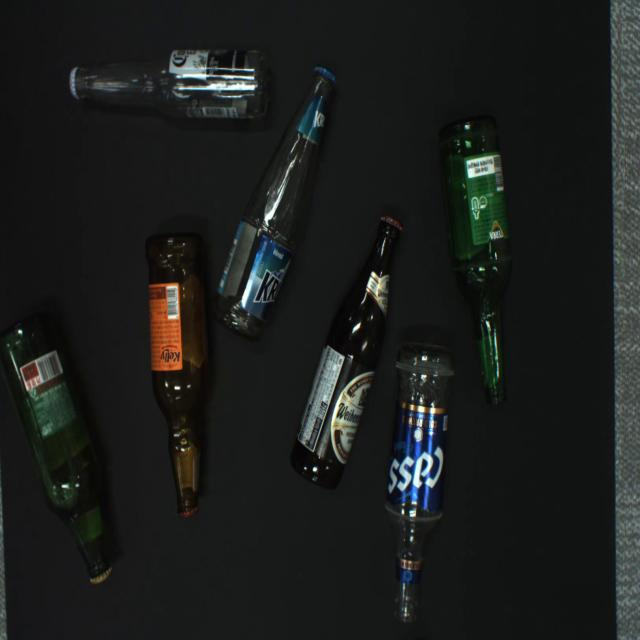beer-bottle: (212, 67, 337, 340), (290, 215, 403, 490), (0, 314, 113, 585), (438, 114, 513, 407), (385, 341, 455, 625), (145, 233, 210, 519), (68, 50, 269, 119)
